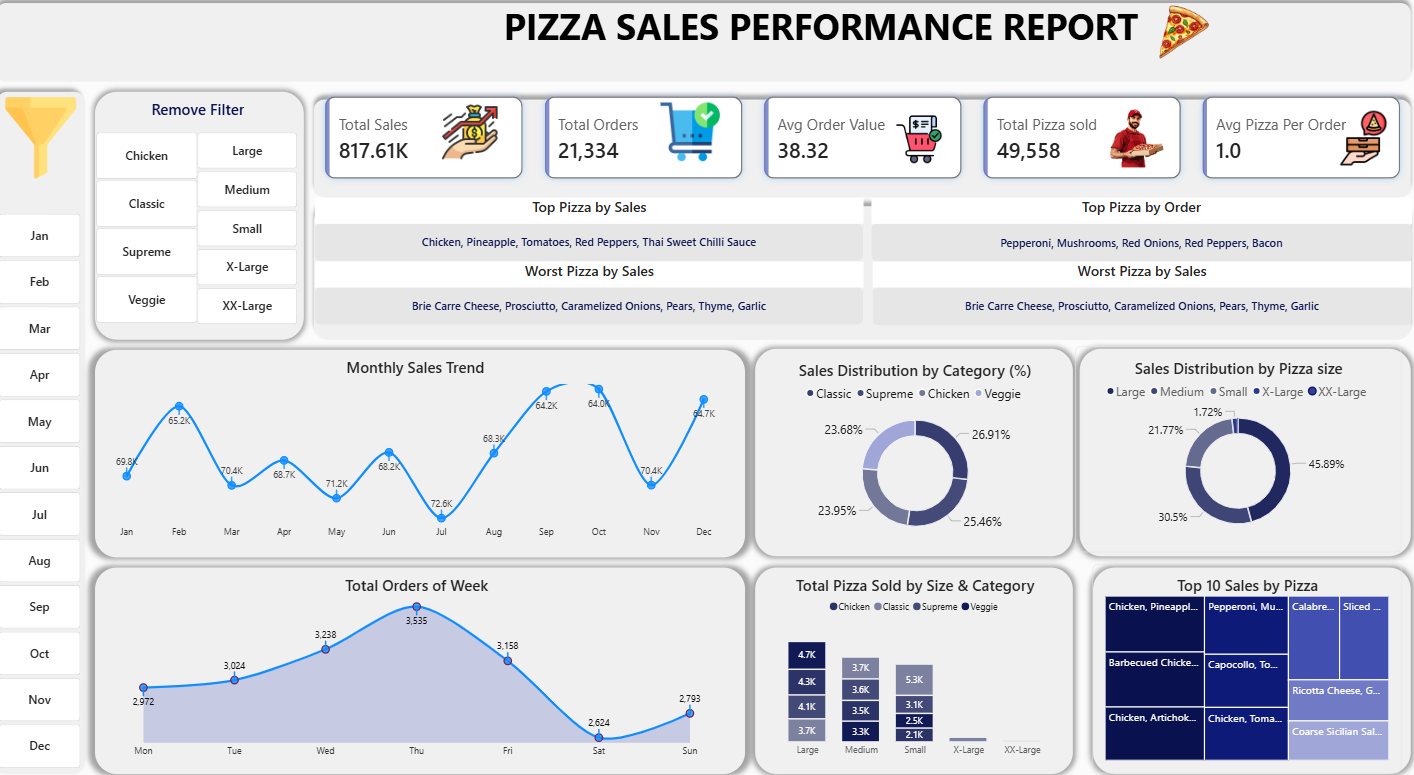

This screenshot's page, from the dashboard's own definition file:
{"tool":"powerbi","page":{"name":"Pizza Sales Dashboard","canvas":[1920,1080],"ordinal":0},"visuals":[{"type":"cardVisual","fields":{"Data":["public pizza_sales.Total Sales","public pizza_sales.Total Orders","public pizza_sales.Average Order Value","public pizza_sales.Total Pizza sold","public pizza_sales.Average Pizza Per Order"]},"box":[442,144,1464,134],"z":0},{"type":"lineChart","title":" Monthly Sales Trend","fields":{"Category":["public pizza_sales.Month Name"],"Y":["public pizza_sales.Total Sales"]},"box":[145.6,488.6,858.9,276.5],"z":1000},{"type":"lineChart","title":"Total Orders of Week","fields":{"Category":["public pizza_sales.Day Name"],"Y":["public pizza_sales.Total Orders"]},"box":[146.9,779.4,859.4,279.2],"z":2000},{"type":"donutChart","title":" Sales Distribution by Category (%)","fields":{"Y":["public pizza_sales.Total Sales"],"Category":["public pizza_sales.pizza_category"]},"box":[1028,492,428,274],"z":3000},{"type":"donutChart","title":" Sales Distribution by Pizza size","fields":{"Category":["public pizza_sales.pizza_size"],"Y":["public pizza_sales.Total Sales"]},"box":[1456.1,489.9,435.7,275],"z":4000},{"type":"columnChart","title":"Total Pizza Sold by Size & Category","fields":{"Category":["public pizza_sales.pizza_size"],"Series":["public pizza_sales.pizza_category"],"Y":["public pizza_sales.Total Orders"]},"box":[1028,780,428,278],"z":5000},{"type":"advancedSlicerVisual","title":"Month Name","fields":{"Values":["public pizza_sales.Month Name"]},"box":[18,313,109.2,747],"z":6000},{"type":"image","box":[19.4,143.6,108.9,134.5],"z":7000},{"type":"image","box":[593.7,163.9,106.4,78.7],"z":8000},{"type":"image","box":[900.6,163.9,84.2,78.7],"z":9000},{"type":"image","box":[1479.8,171.5,118.8,78.7],"z":10000},{"type":"image","box":[1791.7,171.5,99,78.7],"z":11000},{"type":"image","box":[1214.9,171.5,64.4,81.2],"z":12000},{"type":"treemap","title":"Top 10 Sales by Pizza","fields":{"Group":["public pizza_sales.pizza_name"],"Values":["public pizza_sales.Total Sales"]},"box":[1479.6,779.5,413.1,279.7],"z":13000},{"type":"textbox","box":[440,28,1352,116],"z":14000},{"type":"advancedSlicerVisual","fields":{"Values":["public pizza_sales.pizza_category"]},"box":[147.9,203.6,135.4,257.7],"z":15000},{"type":"advancedSlicerVisual","fields":{"Values":["public pizza_sales.pizza_size"]},"box":[283.3,203.6,133.2,257.7],"z":16000},{"type":"actionButton","box":[150.5,144,268.1,59],"z":17000},{"type":"advancedSlicerVisual","title":"Top Pizza by Sales","fields":{"Values":["public pizza_sales.pizza_name"]},"box":[440.5,290.6,732.8,85.5],"z":18000},{"type":"advancedSlicerVisual","title":"Worst Pizza by Sales","fields":{"Values":["public pizza_sales.pizza_name"]},"box":[440.5,376.1,732.8,85.5],"z":19000},{"type":"advancedSlicerVisual","title":"Top Pizza by Order","fields":{"Values":["public pizza_sales.pizza_name"]},"box":[1184,290,722,86],"z":20000},{"type":"advancedSlicerVisual","title":"Worst Pizza by Sales","fields":{"Values":["public pizza_sales.pizza_name"]},"box":[1186,376,720,86],"z":21000},{"type":"image","box":[1524,28,150,84],"z":22000}]}

Visuals, with their boxes in screenshot pixels (x1, y1, x2, y2), scaled from the page's 1920x1080 canvas onto the 1414x775 screenshot:
cardVisual - public pizza_sales.Total Sales x public pizza_sales.Total Orders: pyautogui.locateOnScreen(326, 103, 1404, 199)
" Monthly Sales Trend" lineChart: pyautogui.locateOnScreen(107, 351, 740, 549)
"Total Orders of Week" lineChart: pyautogui.locateOnScreen(108, 559, 741, 760)
" Sales Distribution by Category (%)" donutChart: pyautogui.locateOnScreen(757, 353, 1072, 550)
" Sales Distribution by Pizza size" donutChart: pyautogui.locateOnScreen(1072, 352, 1393, 549)
"Total Pizza Sold by Size & Category" columnChart: pyautogui.locateOnScreen(757, 560, 1072, 759)
"Month Name" advancedSlicerVisual: pyautogui.locateOnScreen(13, 225, 94, 761)
image: pyautogui.locateOnScreen(14, 103, 94, 200)
image: pyautogui.locateOnScreen(437, 118, 516, 174)
image: pyautogui.locateOnScreen(663, 118, 725, 174)
image: pyautogui.locateOnScreen(1090, 123, 1177, 180)
image: pyautogui.locateOnScreen(1320, 123, 1392, 180)
image: pyautogui.locateOnScreen(895, 123, 942, 181)
"Top 10 Sales by Pizza" treemap: pyautogui.locateOnScreen(1090, 559, 1394, 760)
textbox: pyautogui.locateOnScreen(324, 20, 1320, 103)
advancedSlicerVisual - public pizza_sales.pizza_category: pyautogui.locateOnScreen(109, 146, 209, 331)
advancedSlicerVisual - public pizza_sales.pizza_size: pyautogui.locateOnScreen(209, 146, 307, 331)
actionButton: pyautogui.locateOnScreen(111, 103, 308, 146)
"Top Pizza by Sales" advancedSlicerVisual: pyautogui.locateOnScreen(324, 209, 864, 270)
"Worst Pizza by Sales" advancedSlicerVisual: pyautogui.locateOnScreen(324, 270, 864, 331)
"Top Pizza by Order" advancedSlicerVisual: pyautogui.locateOnScreen(872, 208, 1404, 270)
"Worst Pizza by Sales" advancedSlicerVisual: pyautogui.locateOnScreen(873, 270, 1404, 332)
image: pyautogui.locateOnScreen(1122, 20, 1233, 80)
